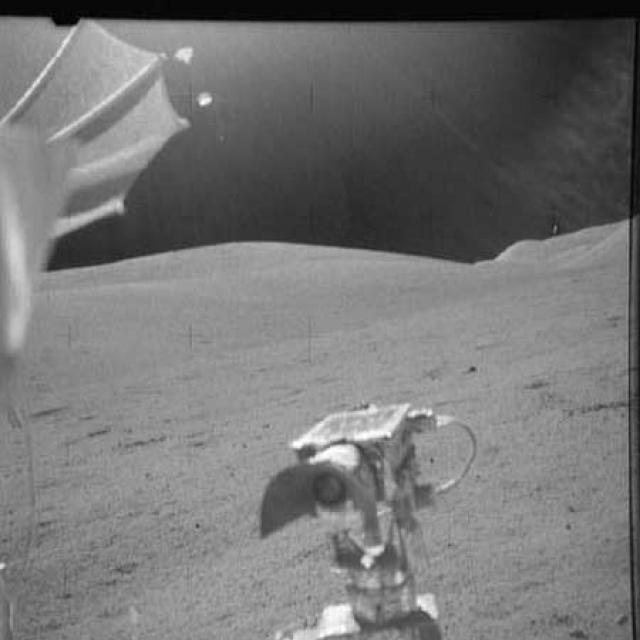artifact: (0, 4, 206, 427), (255, 402, 506, 640)
crater: (102, 428, 204, 457), (0, 398, 84, 426), (555, 398, 635, 426)
